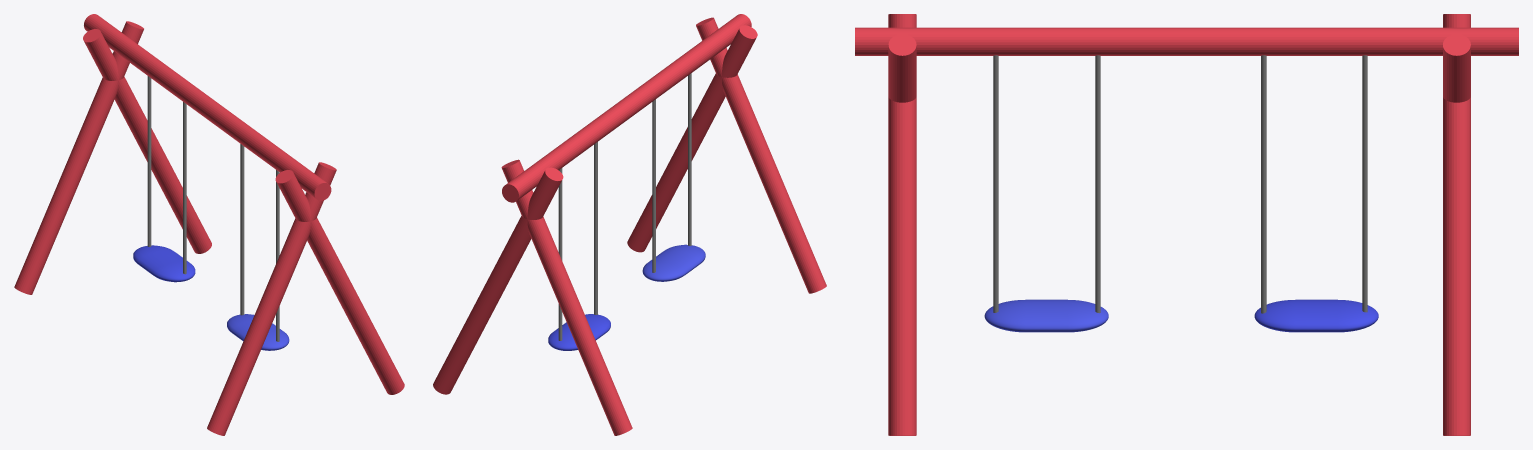
Rendered from Riitiseili_2.fbx.
3 renders of one model, left to right at view 1: azimuth 30°, elevation 25°; view 2: azimuth 150°, elevation 25°; view 3: azimuth 270°, elevation 25°, orthographic. The views are drawn at different scales.
Parts seen in each view (by area): view 1: Capsule; view 2: Capsule; view 3: Capsule.
Part boxes in pixels (box(x1,y1,x2,y2)): Capsule: box(14, 14, 404, 435); Capsule: box(433, 14, 826, 435); Capsule: box(855, 14, 1518, 435).
Size of the model in its own units: 231 by 278 by 472.
